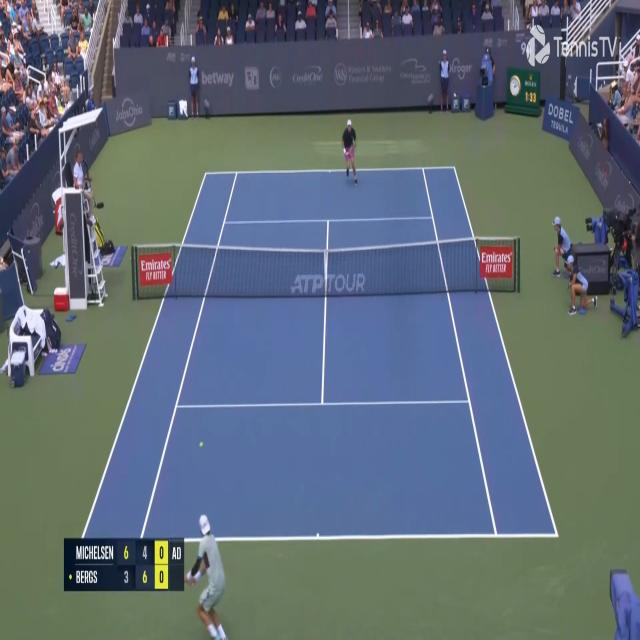tennis-player: (186, 510, 229, 640), (340, 116, 358, 186)
